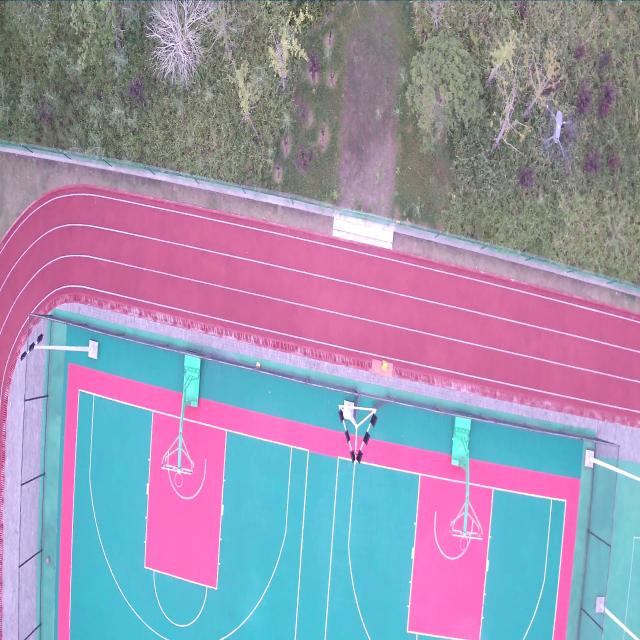UAV: (542, 102, 572, 155)
